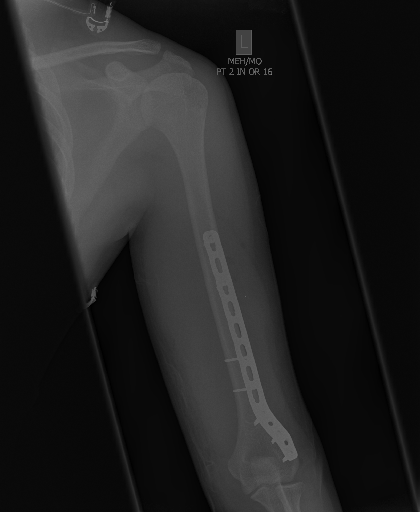implant: (196, 225, 297, 470)
